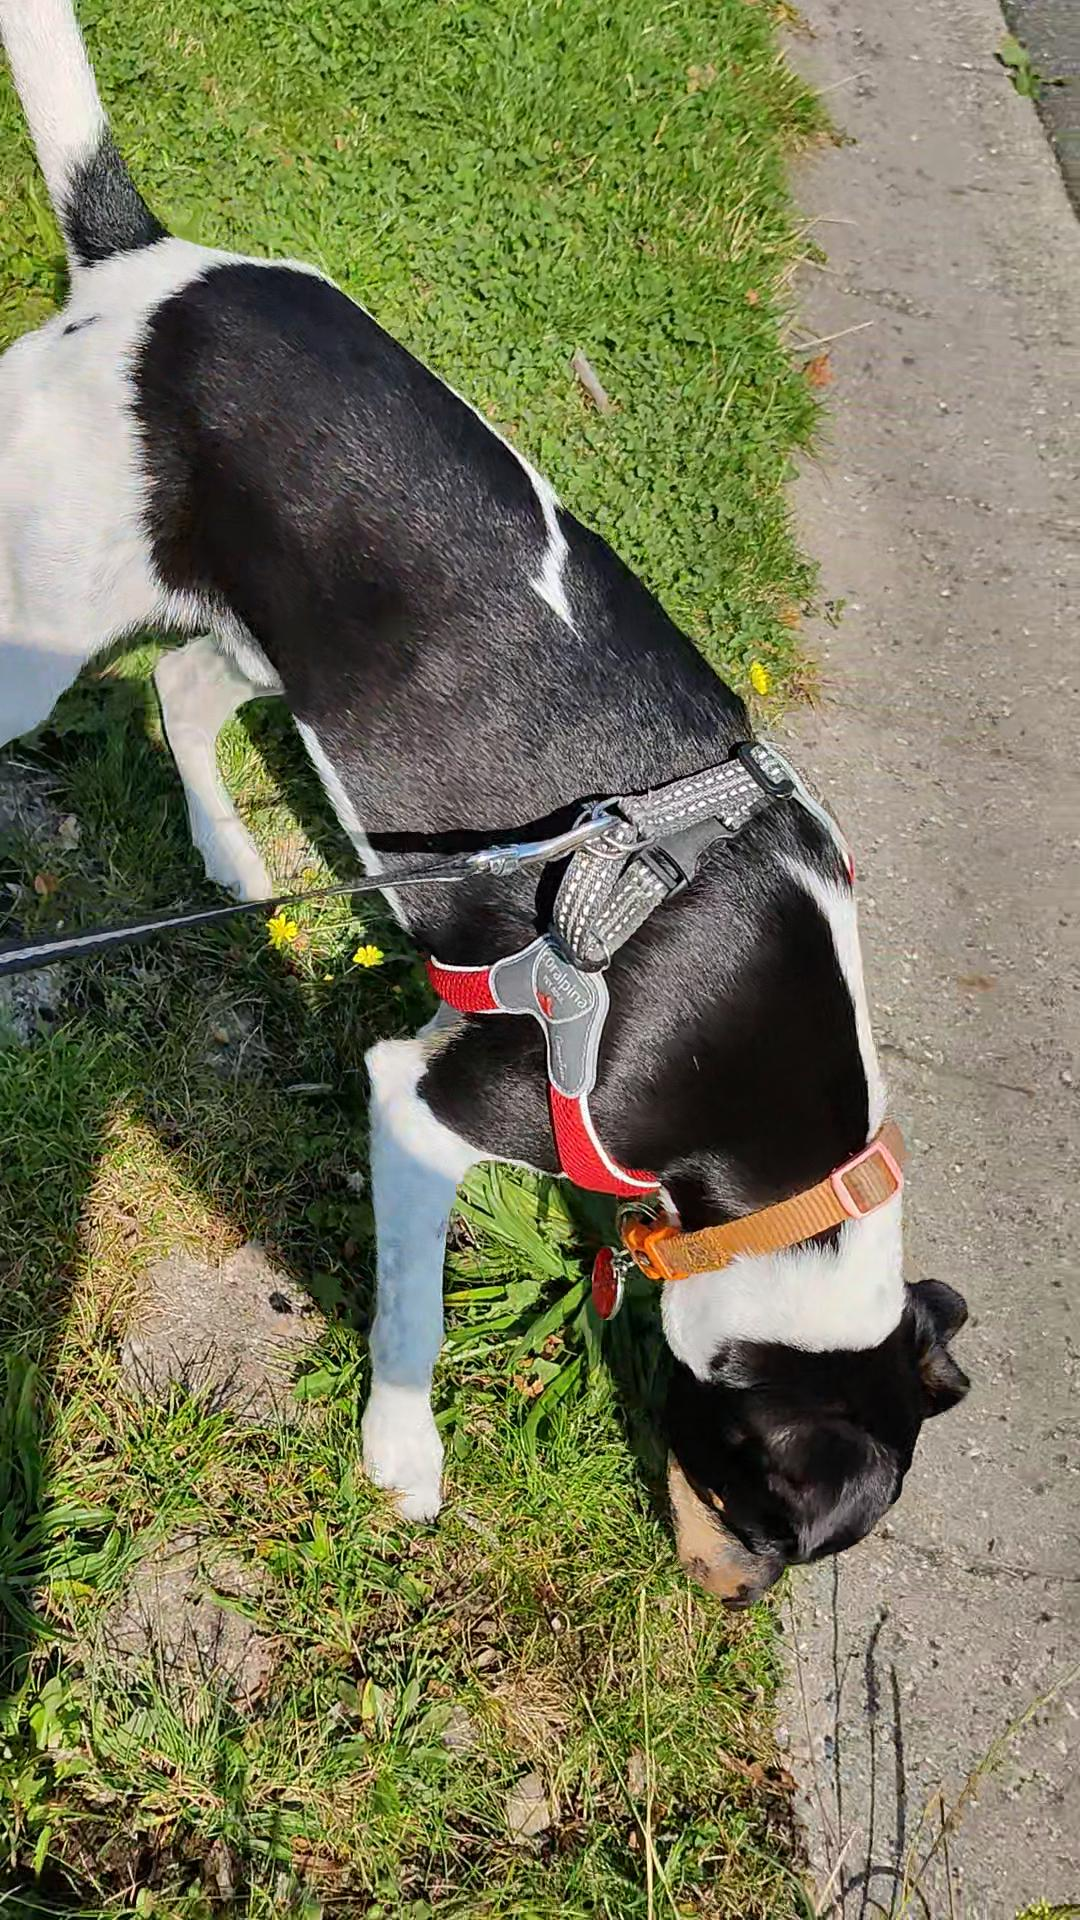Dog: (0, 0, 984, 1615)
